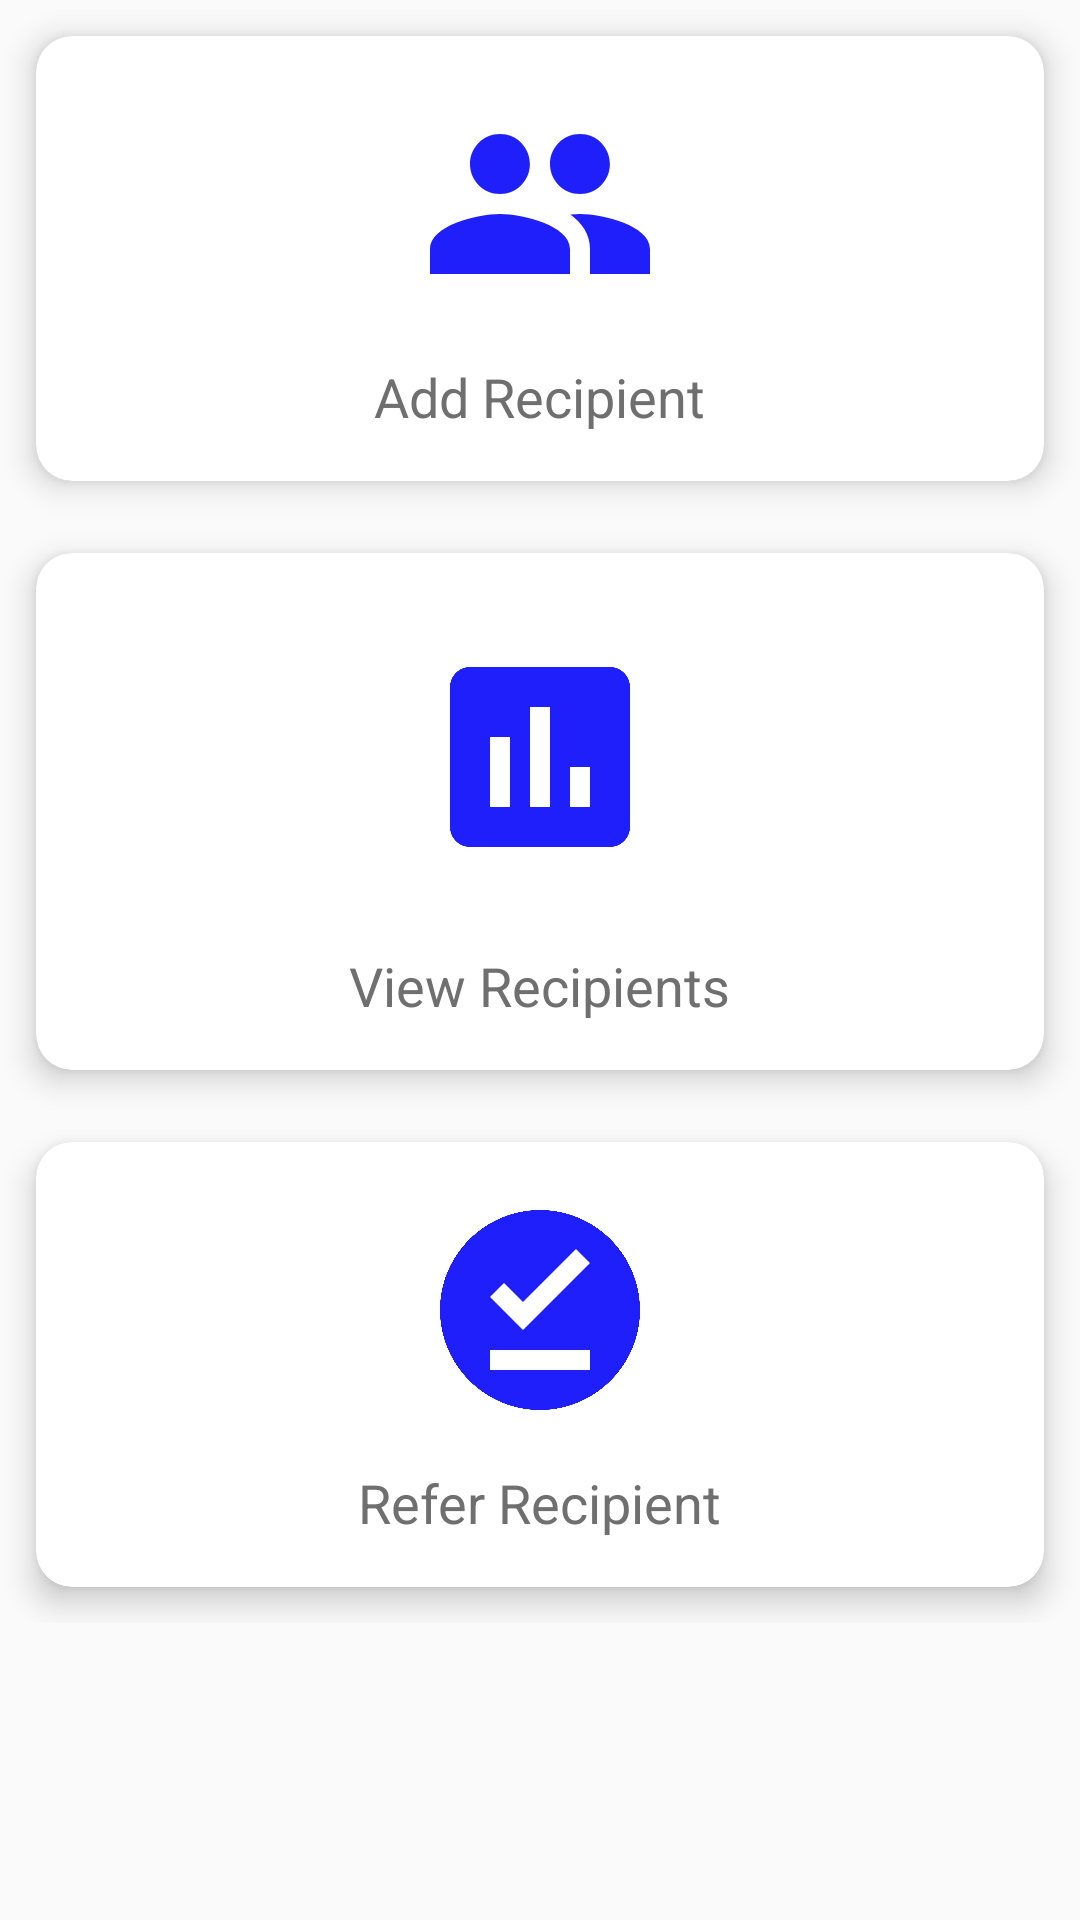

Locate icon controls on the screen. Image size 1080px×1920px, boxes as (x1, y1, x2, y2).
people: (430, 134, 650, 274)
